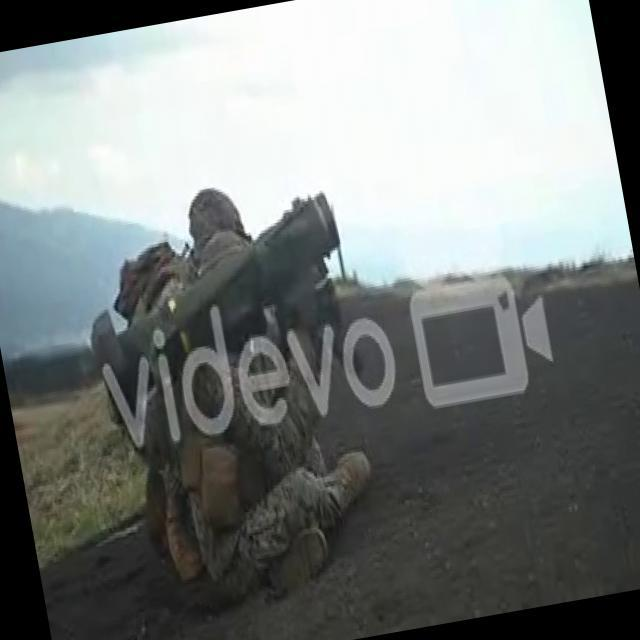rocket: (76, 194, 358, 412)
